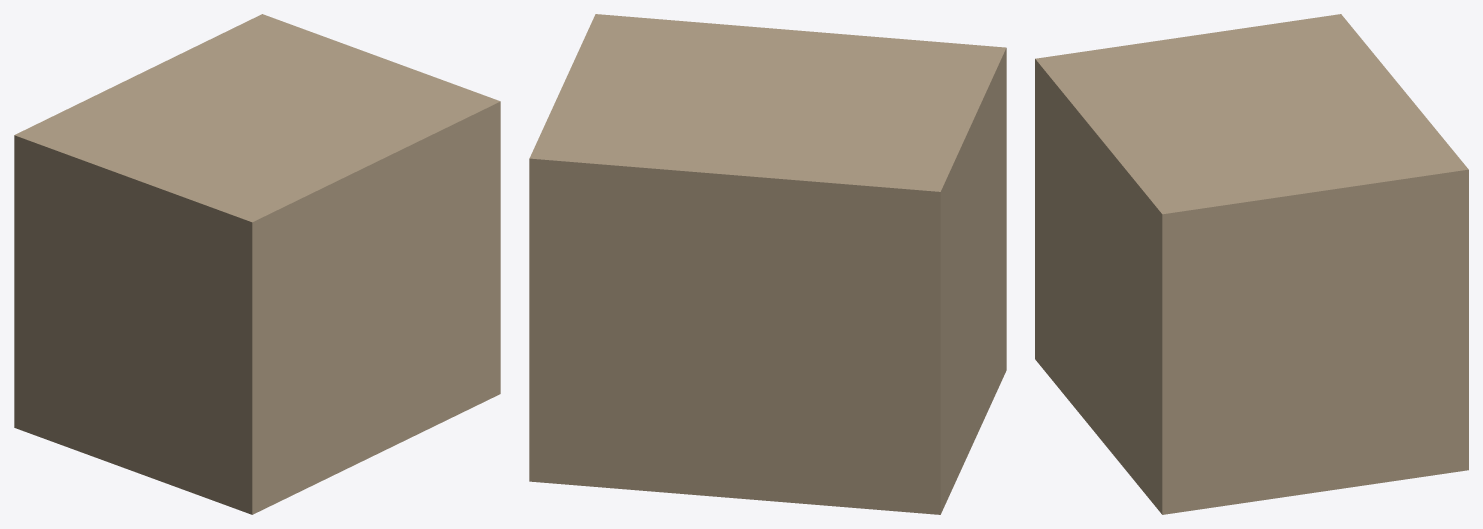
Rendered from bld_108162247.dae.
3 views of the same model, side by side, from view 1: azimuth 30°, elevation 25°; view 2: azimuth 150°, elevation 25°; view 3: azimuth 270°, elevation 25° (orthographic). The views are drawn at different scales.
Visible parts, largest first — view 1: bld_108162247; view 2: bld_108162247; view 3: bld_108162247.
Part boxes in pixels (<box>): bld_108162247: <box>14,14,500,514</box>; bld_108162247: <box>529,14,1006,514</box>; bld_108162247: <box>1035,14,1468,514</box>.
Bounding box in the file's own units: 11.43 × 10.46 × 8.
